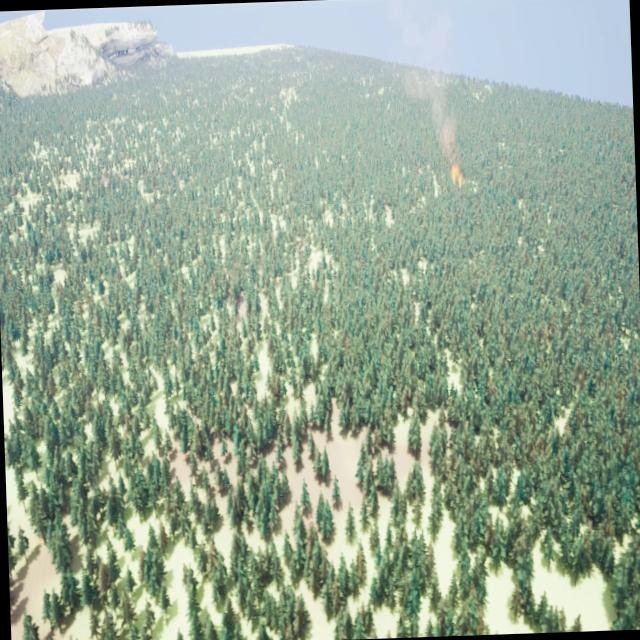fire: (449, 158, 464, 184)
smoke: (392, 0, 460, 164)
